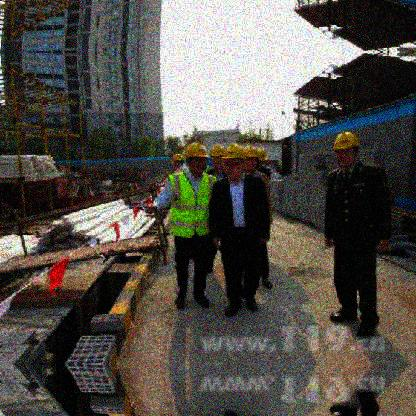helmet: (333, 132, 360, 165), (222, 144, 244, 180), (182, 143, 208, 173), (243, 144, 257, 171), (210, 145, 224, 168), (170, 154, 184, 169)
